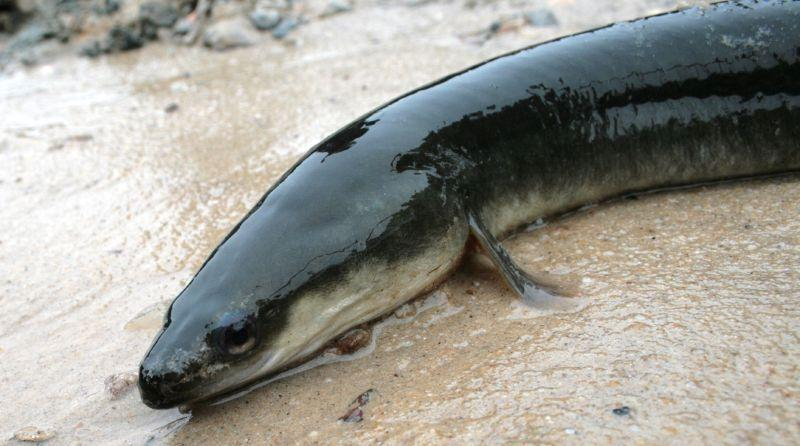Freshwater Eel: (126, 0, 800, 411)
